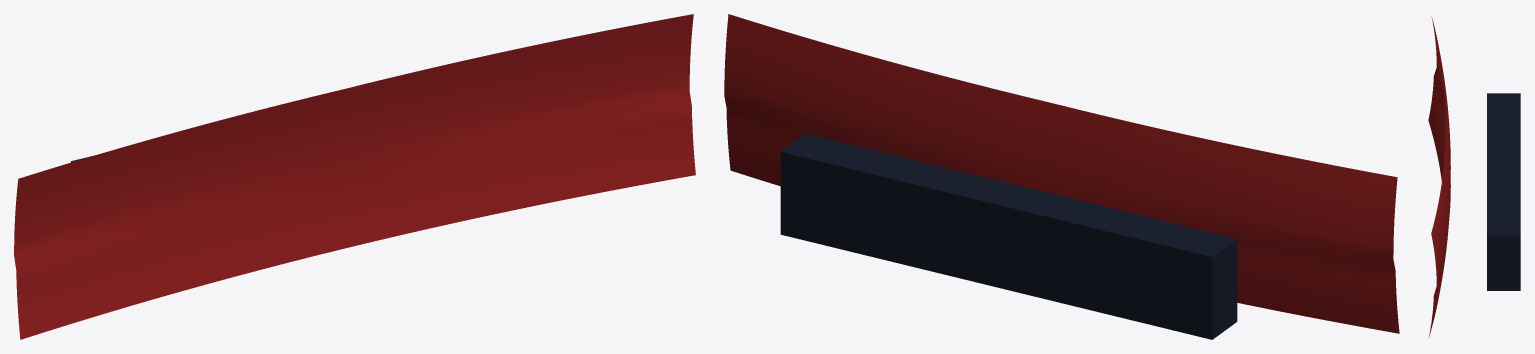
Rendered from front_bumper.glb.
3 renders of one model, left to right at view 1: azimuth 30°, elevation 25°; view 2: azimuth 150°, elevation 25°; view 3: azimuth 270°, elevation 25°, orthographic. The views are drawn at different scales.
Parts seen in each view (by area): view 1: Front_Bumper_Main_Fascia; view 2: Front_Bumper_Main_Fascia, Front_Bumper_Central_Air_Intake; view 3: Front_Bumper_Central_Air_Intake, Front_Bumper_Main_Fascia.
Boxes of the visible parts, x1,y1,x2,y2 form: Front_Bumper_Main_Fascia: (14, 14, 695, 339); Front_Bumper_Main_Fascia: (724, 14, 1399, 333); Front_Bumper_Central_Air_Intake: (780, 133, 1237, 339); Front_Bumper_Central_Air_Intake: (1487, 93, 1520, 290); Front_Bumper_Main_Fascia: (1428, 16, 1450, 336).
Bounding box in the file's own units: 1.86 × 0.42 × 0.3301.
